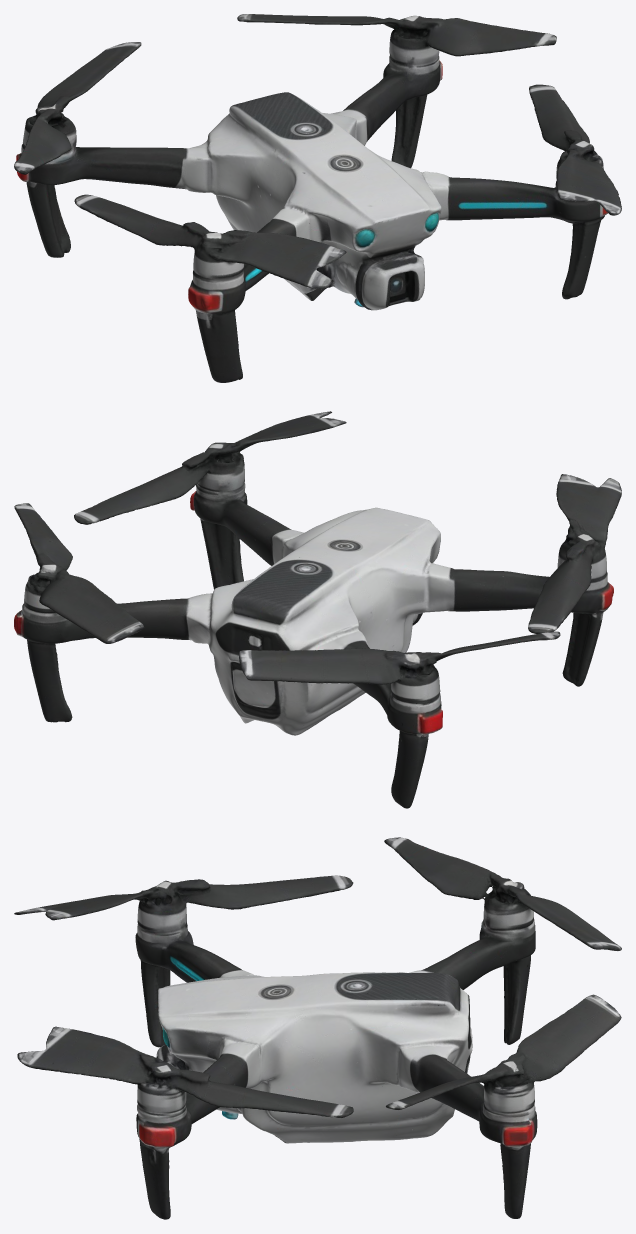
Rendered from drone.glb.
3 renders of one model, top to bottom at view 1: azimuth 30°, elevation 25°; view 2: azimuth 150°, elevation 25°; view 3: azimuth 270°, elevation 25°, orthographic. The views are drawn at different scales.
Size of the model in its own units: 2 by 0.5525 by 1.89.
1 material, 1 textured.
